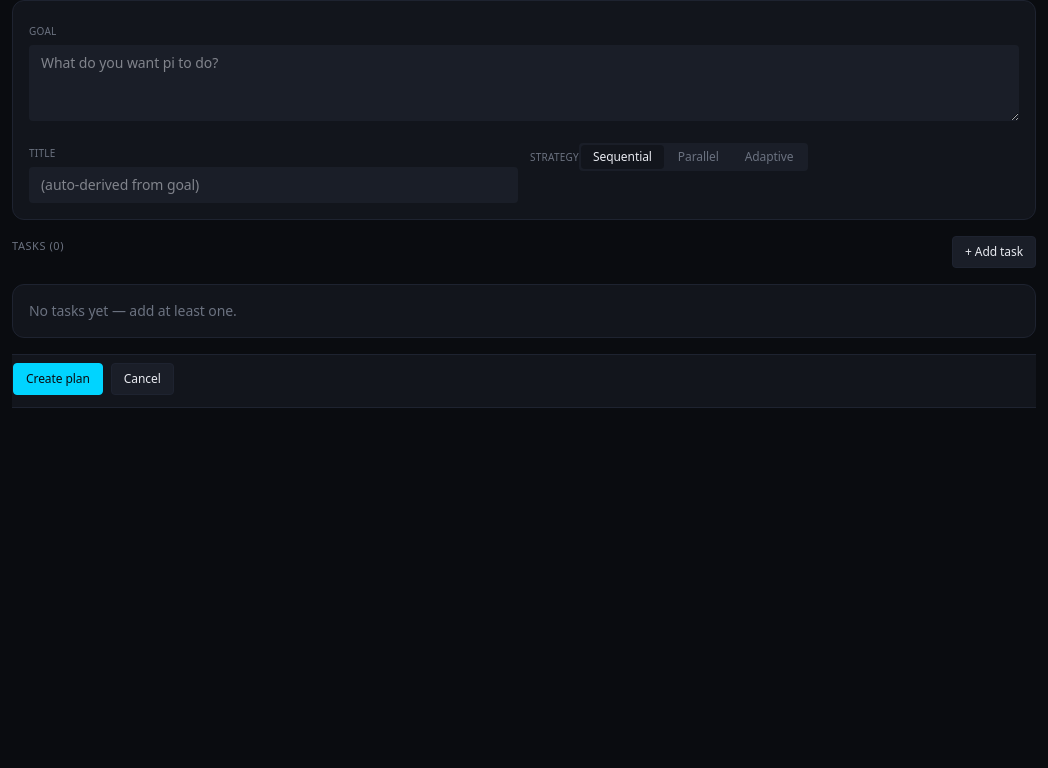
Test case: PlanEditor › adds a task when + Add task is clicked
Click the button with test id "add-task" at point(994, 252), box [952, 236, 1036, 268]
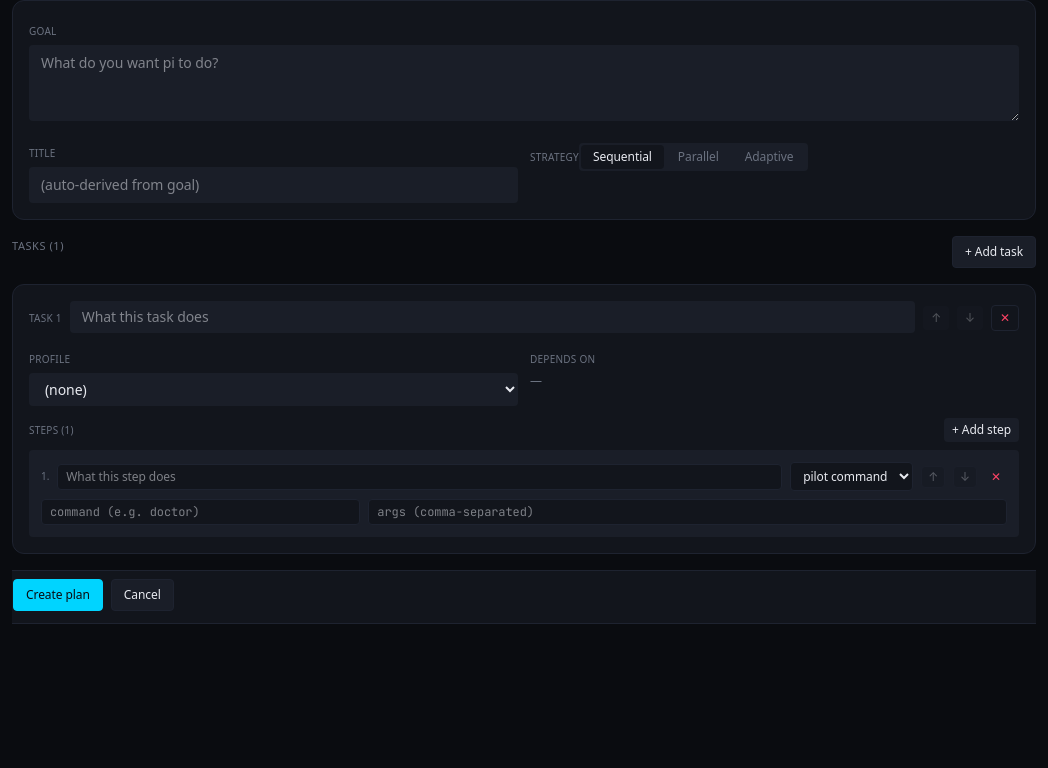
Expected: the text "No tasks yet" is gone
Expected: the text "Task 1" is shown, [29, 311, 62, 326]
Expected: the text "1." is shown, [41, 469, 49, 484]
